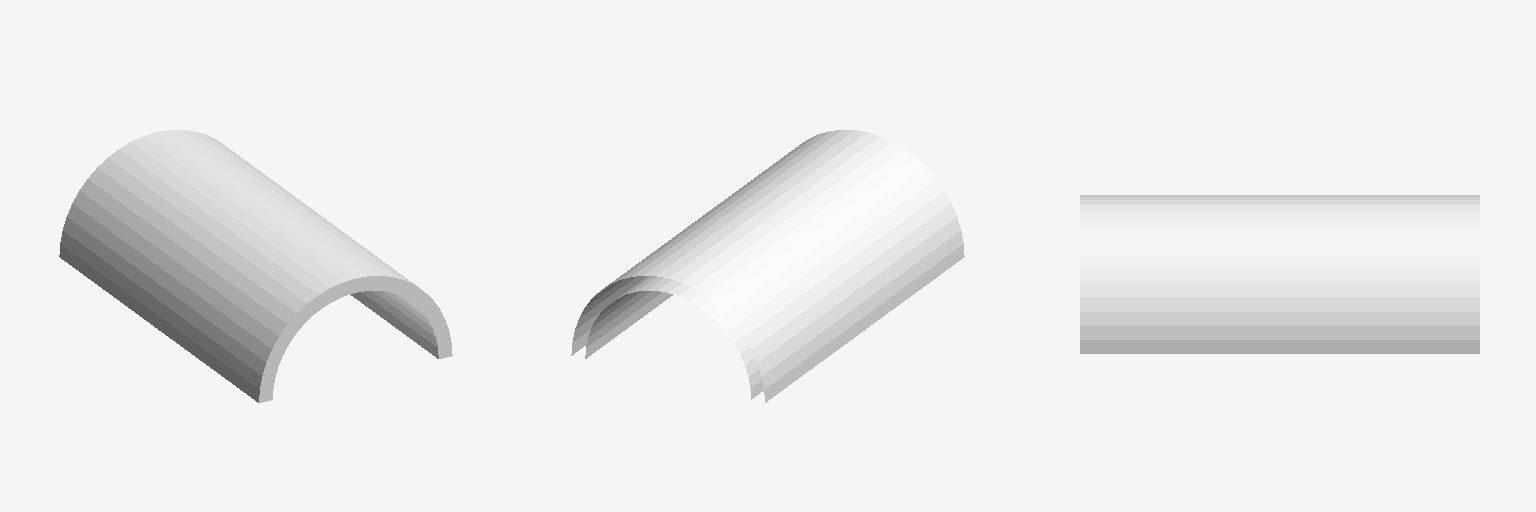
Rendered from MinorAscentTunnelArch.obj.
The picture shows the model from 3 angles: view 1: azimuth 30°, elevation 25°; view 2: azimuth 150°, elevation 25°; view 3: azimuth 270°, elevation 25°; orthographic projection.
Parts seen in each view (by area): view 1: MinorAscentTunnelArch; view 2: MinorAscentTunnelArch; view 3: MinorAscentTunnelArch.
Part boxes in pixels (bbox=[...]): MinorAscentTunnelArch: bbox=[59, 130, 452, 402]; MinorAscentTunnelArch: bbox=[571, 130, 964, 402]; MinorAscentTunnelArch: bbox=[1080, 195, 1479, 353].
Size of the model in its own units: 7 by 3.5 by 12.5.